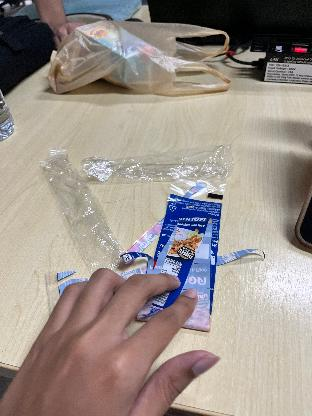Others: (132, 184, 244, 328), (36, 154, 122, 270), (76, 138, 244, 192)
